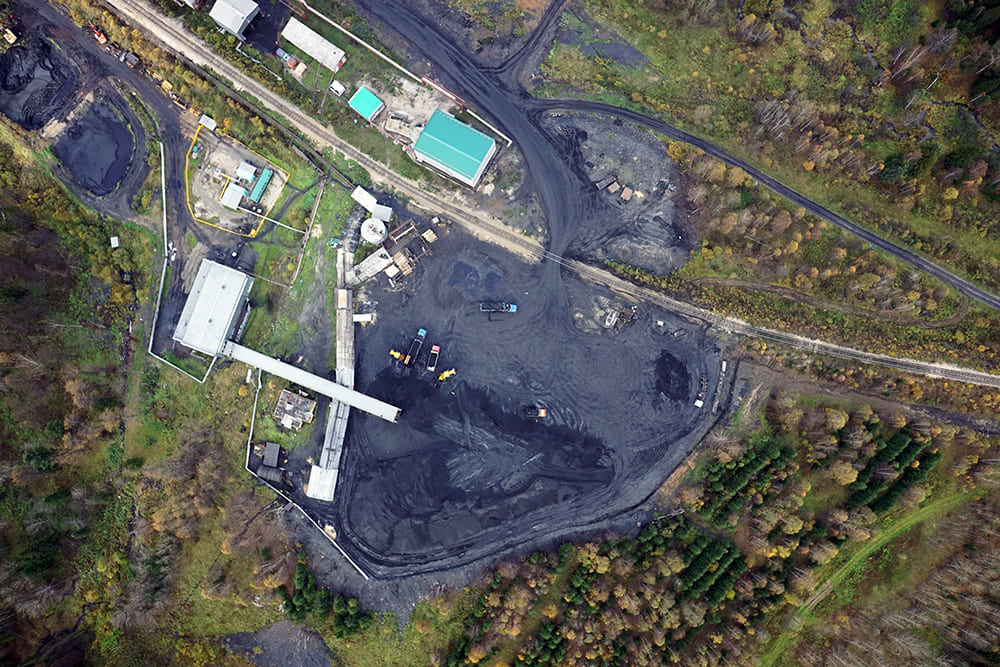build: (166, 254, 248, 359), (409, 107, 501, 190), (208, 1, 271, 45), (346, 83, 384, 122)
